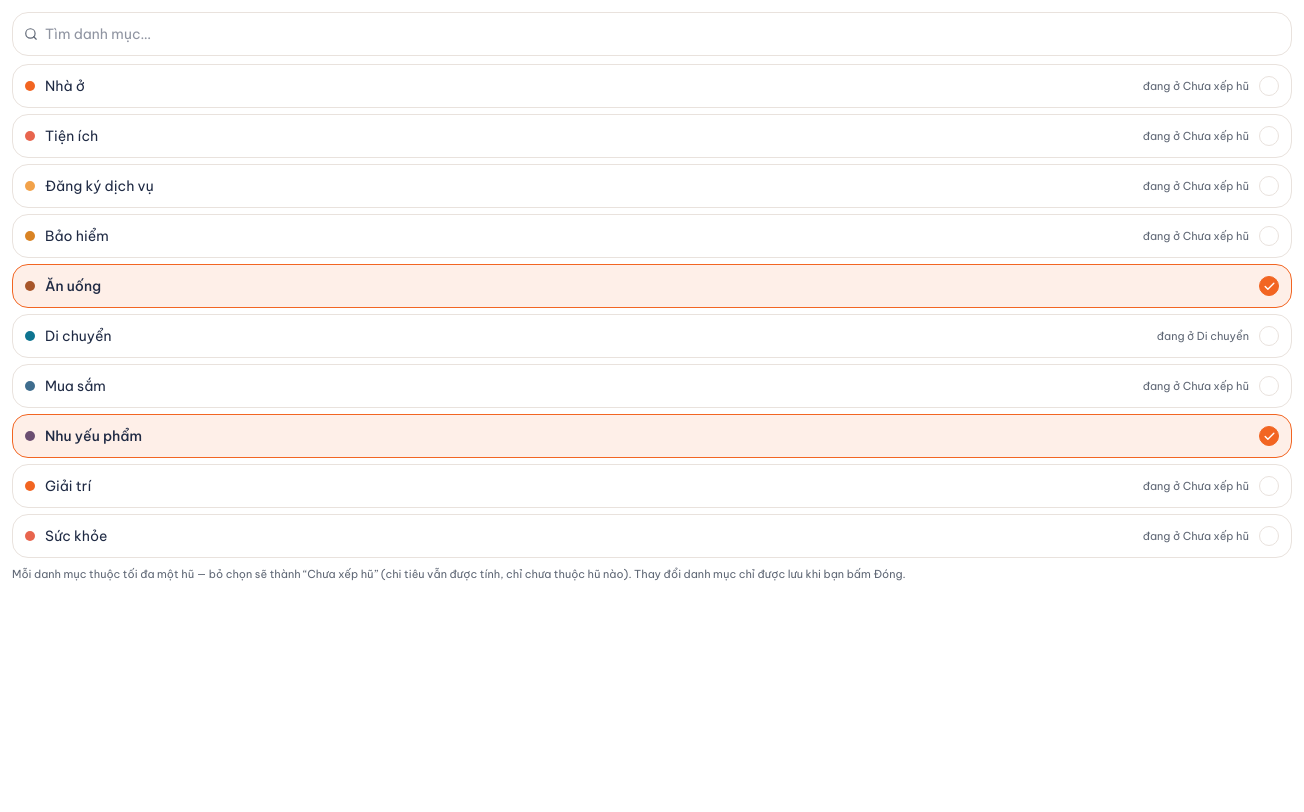
Test: HuCategoryPicker — search (F6) › shows an empty-state line quoting the query when nothing matches
The width and height of the screenshot is (1304, 812).
Type "zzz-khong-ton-tai" into the search field labelled "Tìm danh mục" at [652, 34], box left=12, top=12, right=1292, bottom=56
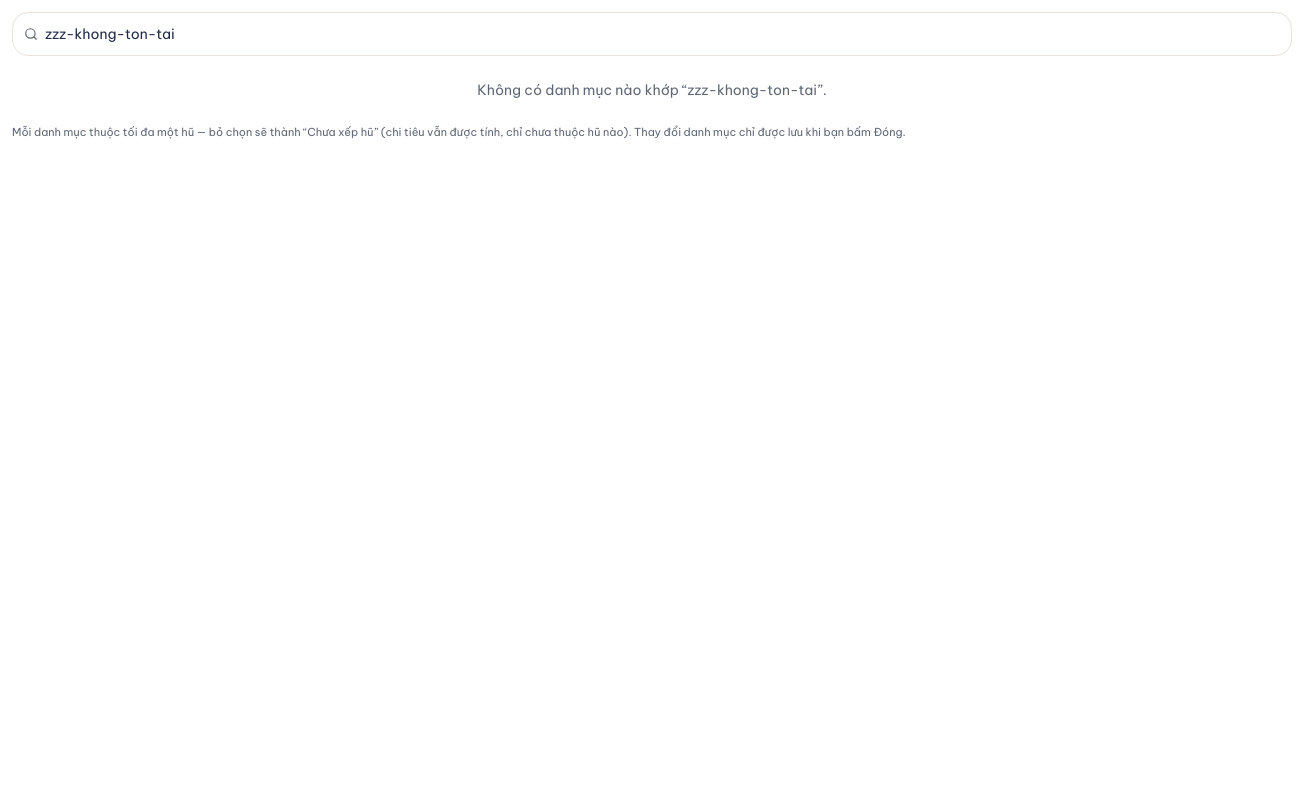
Expected: no list items are shown
Expected: the text "Không có danh mục nào khớp “zzz-khong-ton-tai”." is shown, left=477, top=81, right=827, bottom=99
